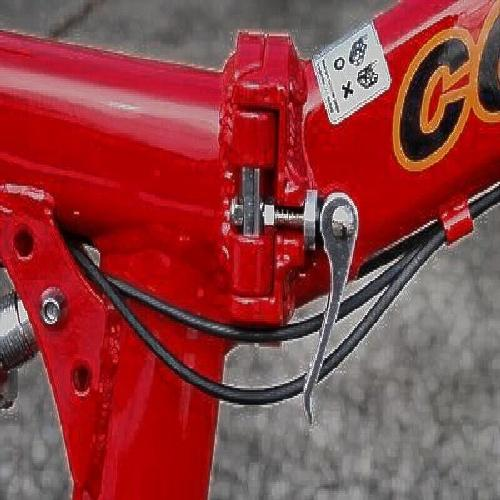bicycle: (23, 32, 467, 464)
